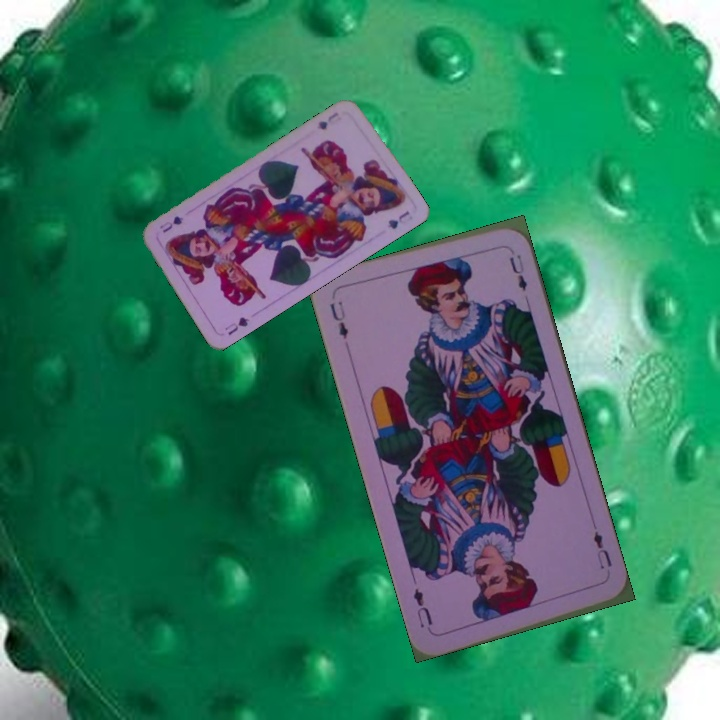EU: (589, 526, 615, 572), (325, 297, 351, 342)
GU: (221, 313, 252, 338), (313, 108, 341, 132)
